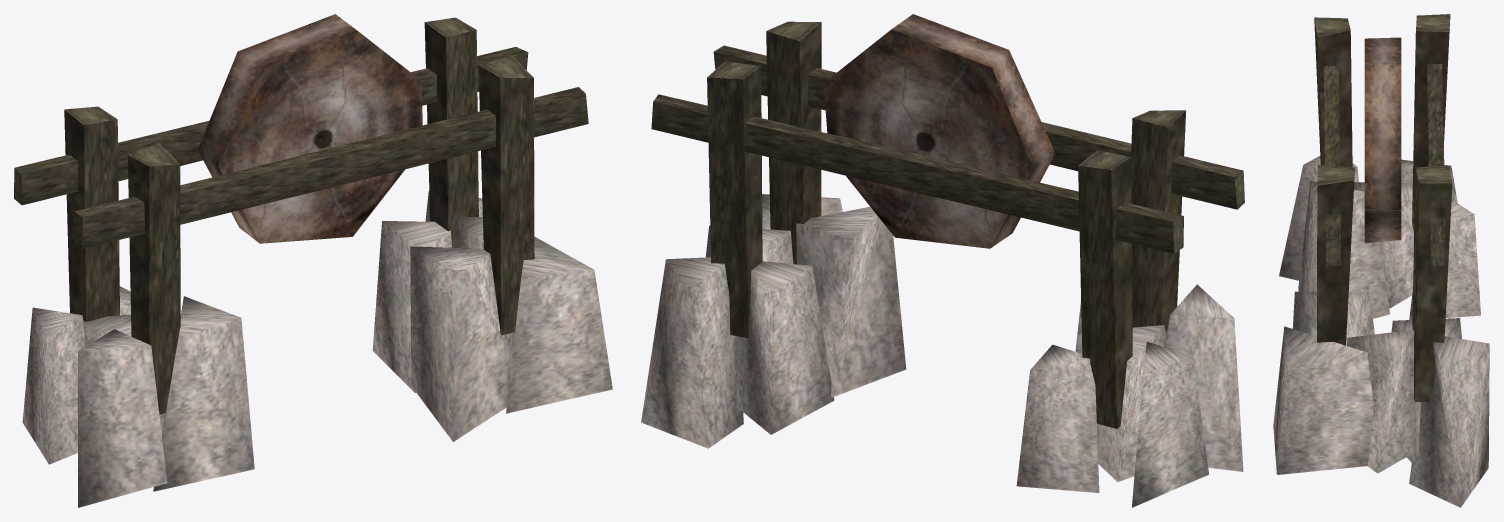
File: thm_dant_cooking_stone_l3.fbx
3 views of the same model, side by side, from view 1: azimuth 30°, elevation 25°; view 2: azimuth 150°, elevation 25°; view 3: azimuth 270°, elevation 25° (orthographic). The views are drawn at different scales.
Parts seen in each view (by area): view 1: mesh_node; view 2: mesh_node; view 3: mesh_node.
Boxes of the visible parts, <box> form: mesh_node: <box>14,14,612,507</box>; mesh_node: <box>641,14,1244,507</box>; mesh_node: <box>1273,14,1489,507</box>.
Size of the model in its own units: 2.47 by 1.92 by 1.05.
